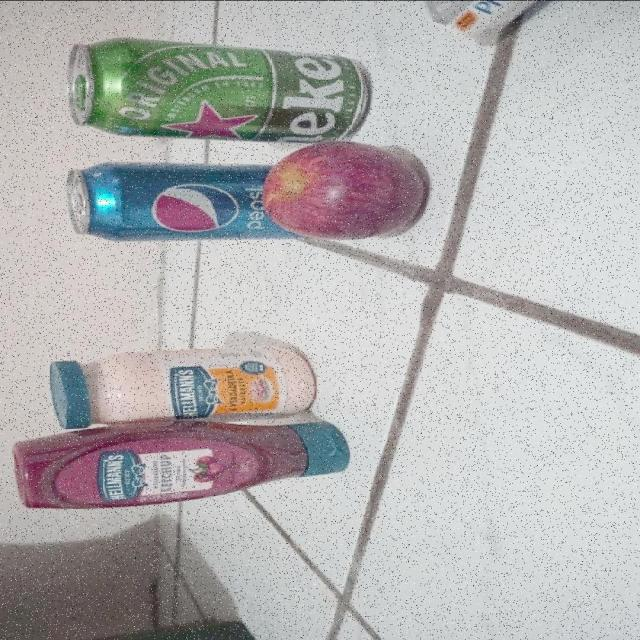Apple: (262, 140, 424, 239)
BeerCan: (66, 35, 371, 144)
Ketchup: (11, 420, 350, 509)
Mayonnaise: (45, 344, 318, 429)
SodaCan: (66, 161, 324, 241)
